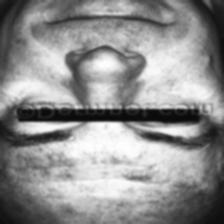Non-Cancerous Skin Condition: (0, 149, 212, 224), (18, 46, 204, 90)
